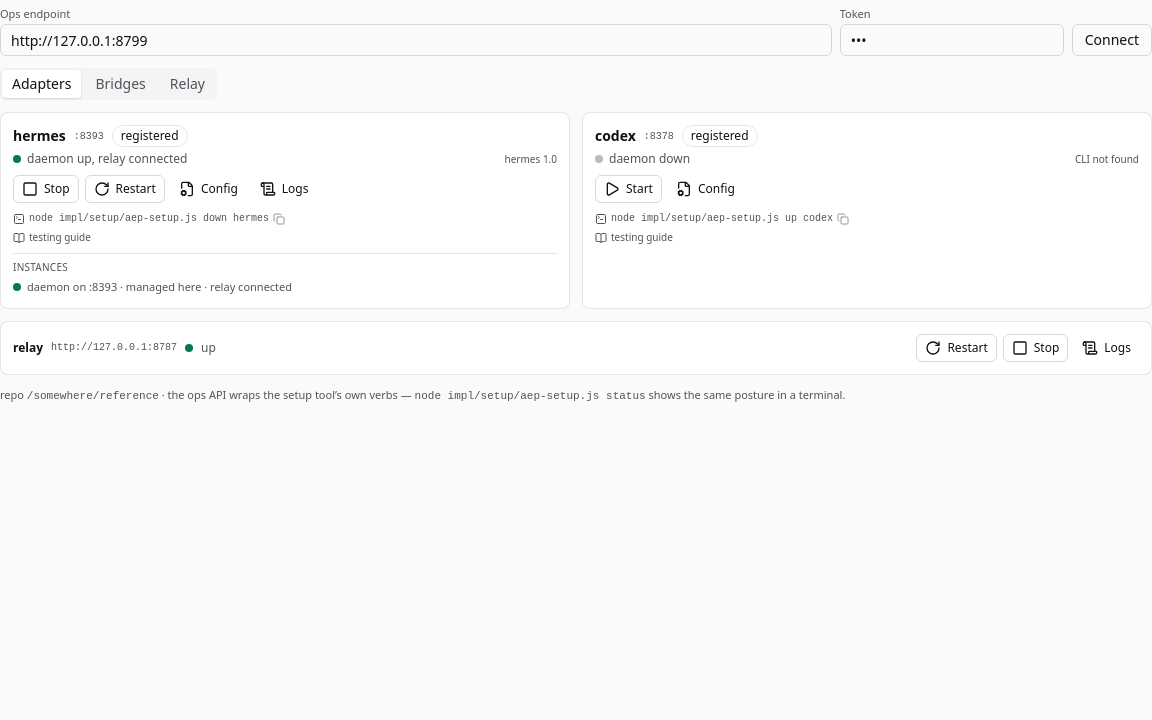
Test case: scenario step list › renders failed state with the reason and leaves unreached steps pending
Expected: the element with test id "process-codex" is shown, [582,112,1151,308]
Click the button with aria-label "start codex" at (628, 189), box [595,175,662,203]
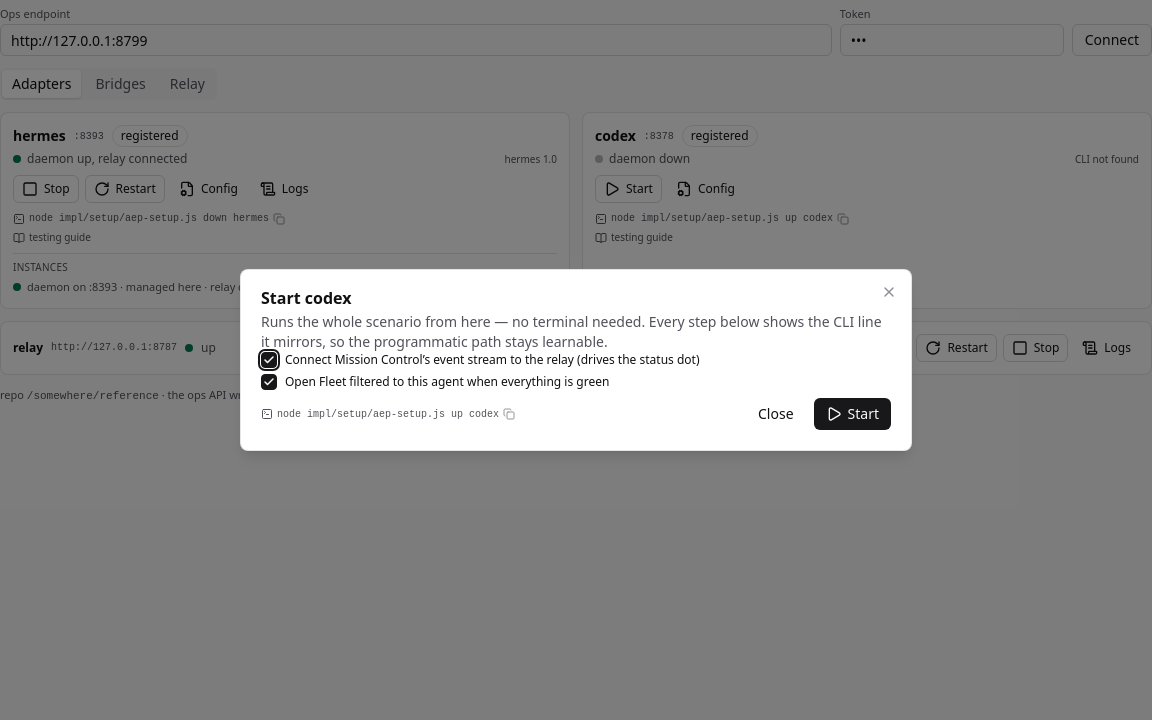
Click the button with aria-label "run start scenario" at (852, 414), box [814,398,891,430]
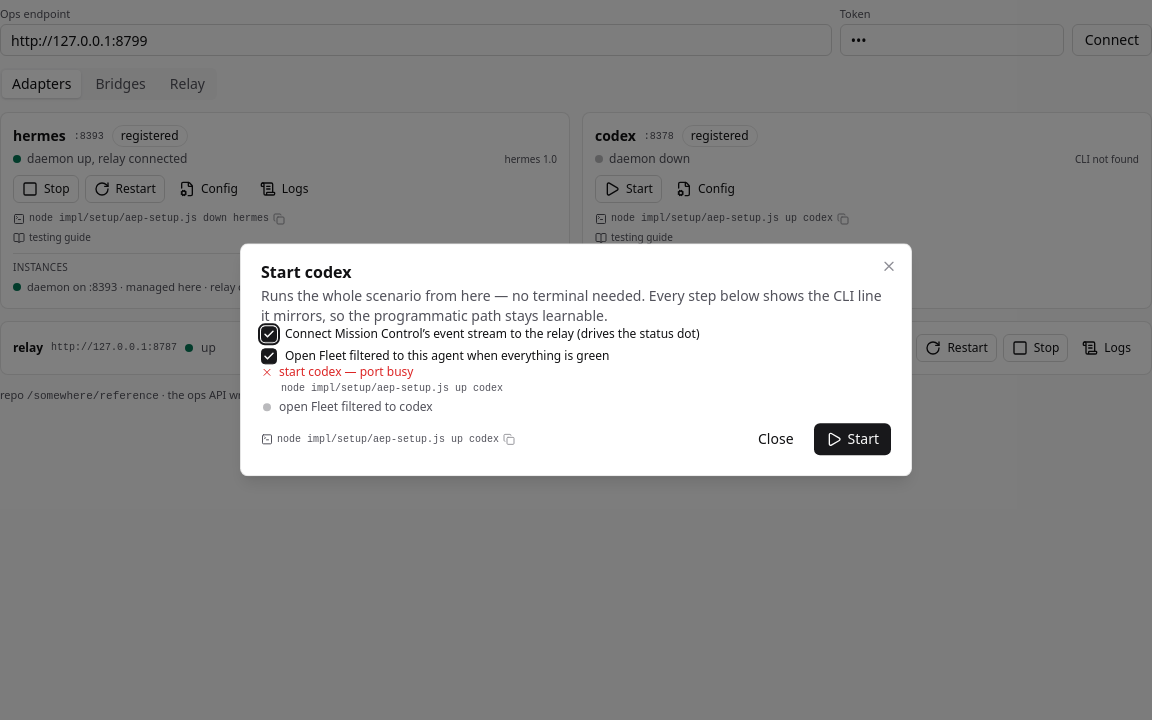
Expected: the list item with test id "step-start" shows "port busy", [342,363,414,380]
